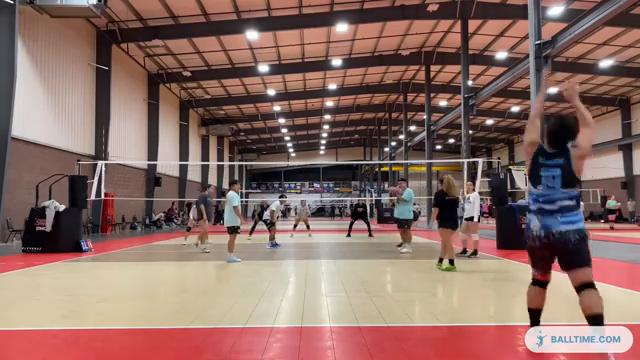battuta: (512, 64, 618, 325)
